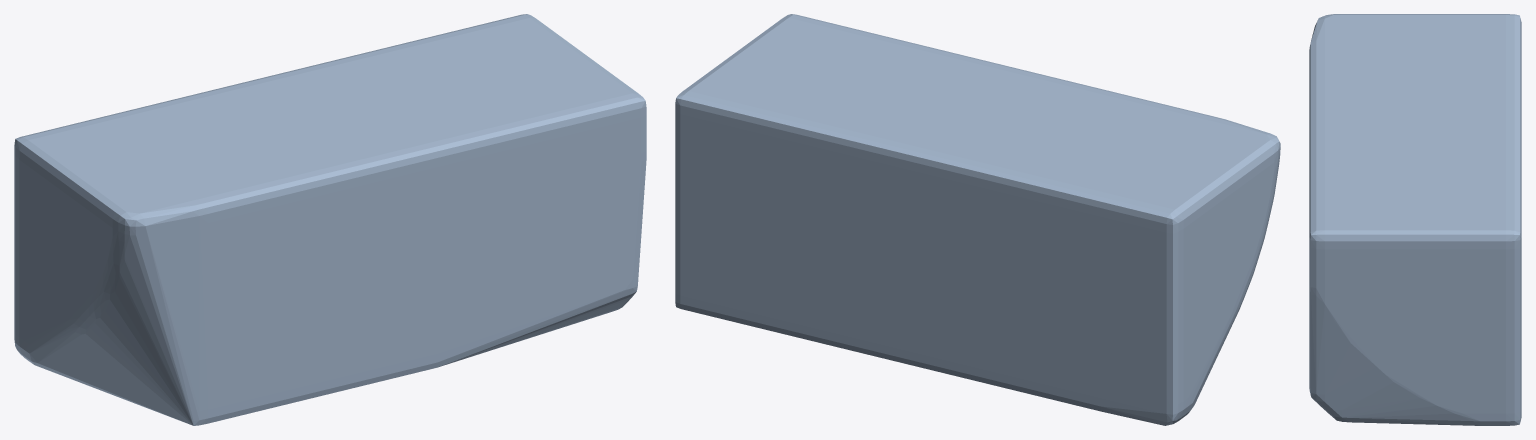
File: left_shoulder_pitch_link_part_6.obj
3 views of the same model, side by side, from view 1: azimuth 30°, elevation 25°; view 2: azimuth 150°, elevation 25°; view 3: azimuth 270°, elevation 25° (orthographic). The views are drawn at different scales.
Bounding box in the file's own units: 0.0673 × 0.0274 × 0.0271.
